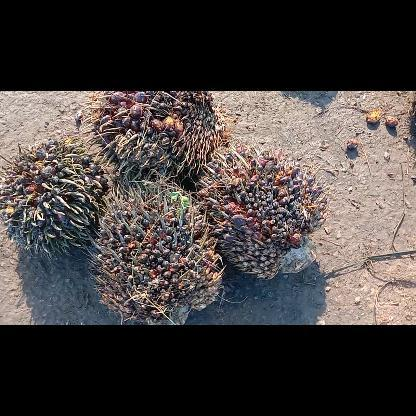TBS abnormal: (86, 170, 226, 324), (199, 135, 330, 281), (0, 134, 111, 260)
TBS masak: (78, 92, 232, 182)
